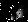person: (20, 6, 28, 18), (13, 11, 20, 20)
